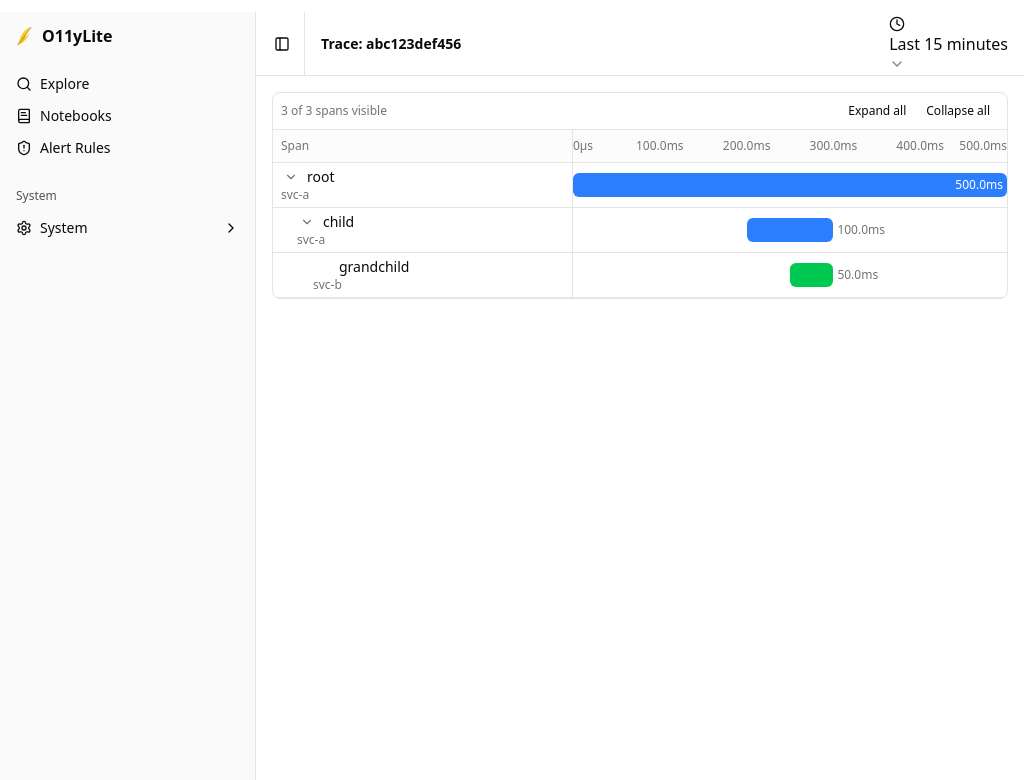
Trace page — span click opens side panel › opens the collapsed right panel when a span is selected
Expected: the text "root" is shown, left=307, top=167, right=334, bottom=187
Click the text "child".
click(339, 222)  # box left=323, top=212, right=354, bottom=232
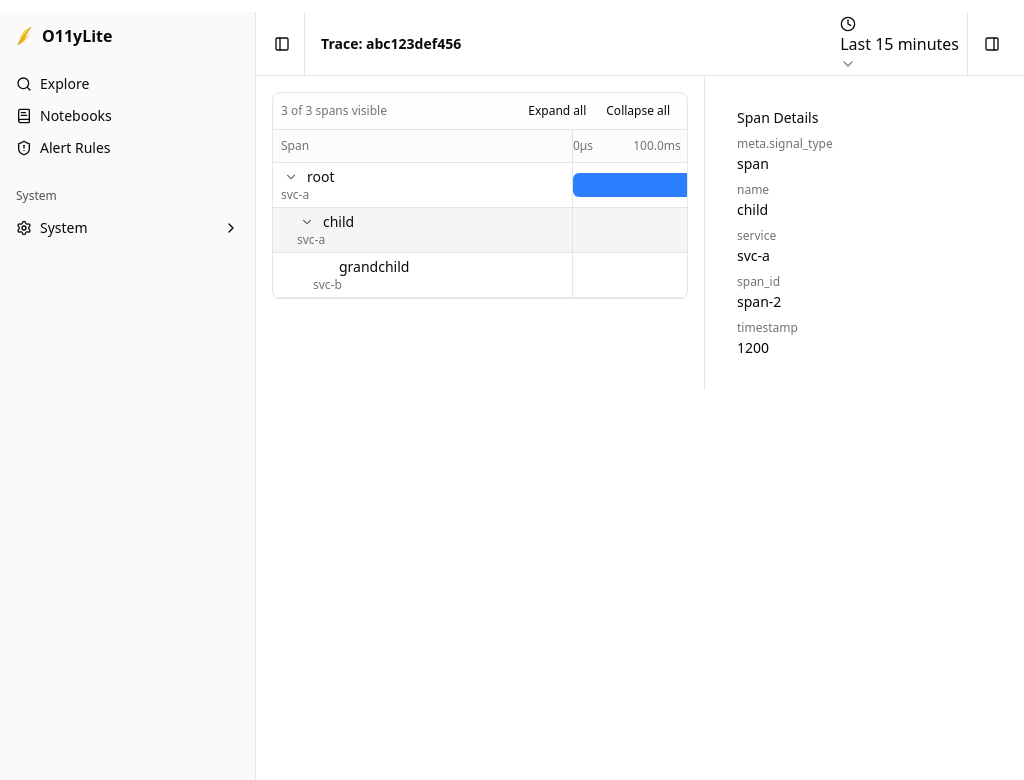
Result: the heading "Span Details" is shown at left=737, top=108, right=818, bottom=127
